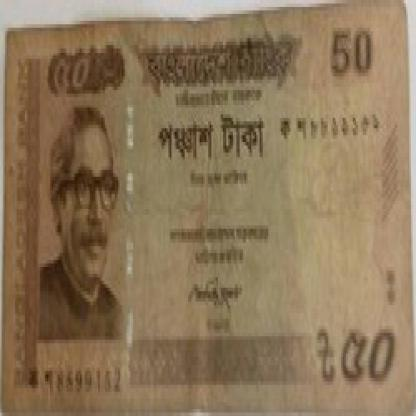Fifty taka: (315, 315, 411, 398), (42, 52, 107, 121)
